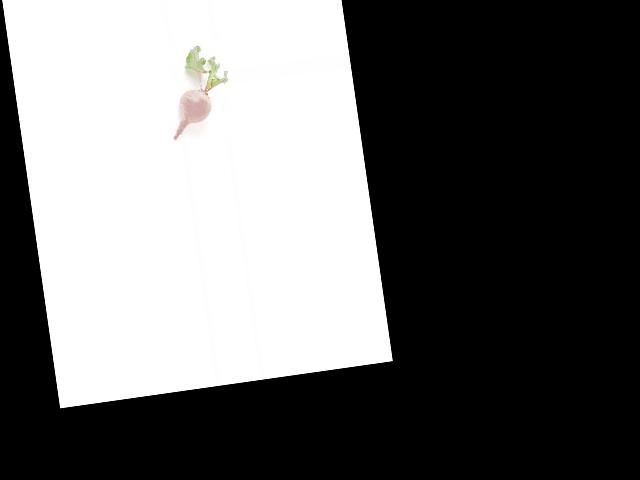beet: (160, 41, 236, 139)
